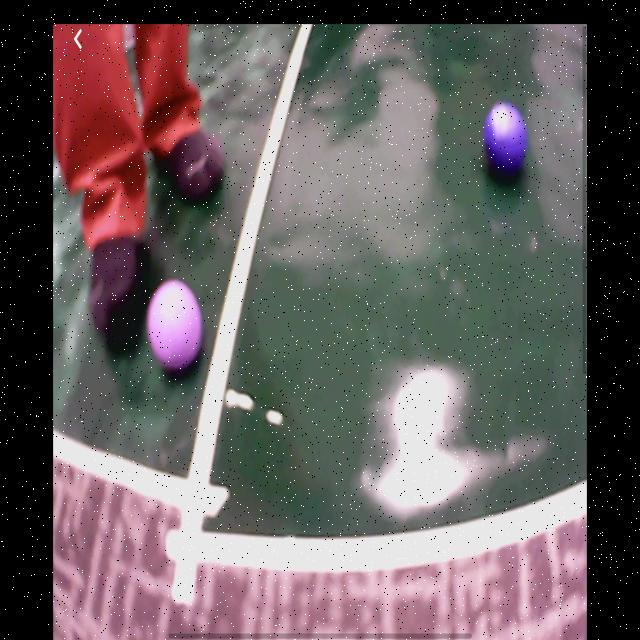ball: (147, 280, 203, 368), (483, 101, 527, 176)
